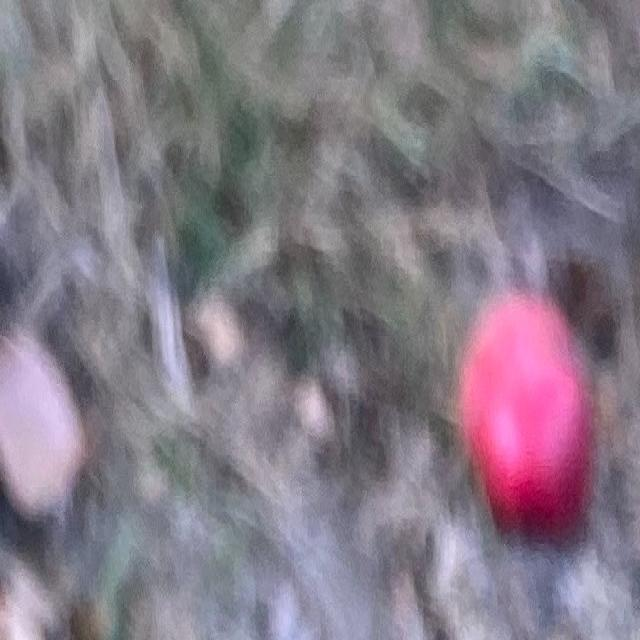100-_ripeness: (466, 300, 592, 544)
